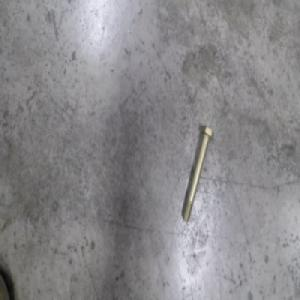Bolt: (180, 123, 213, 223)
